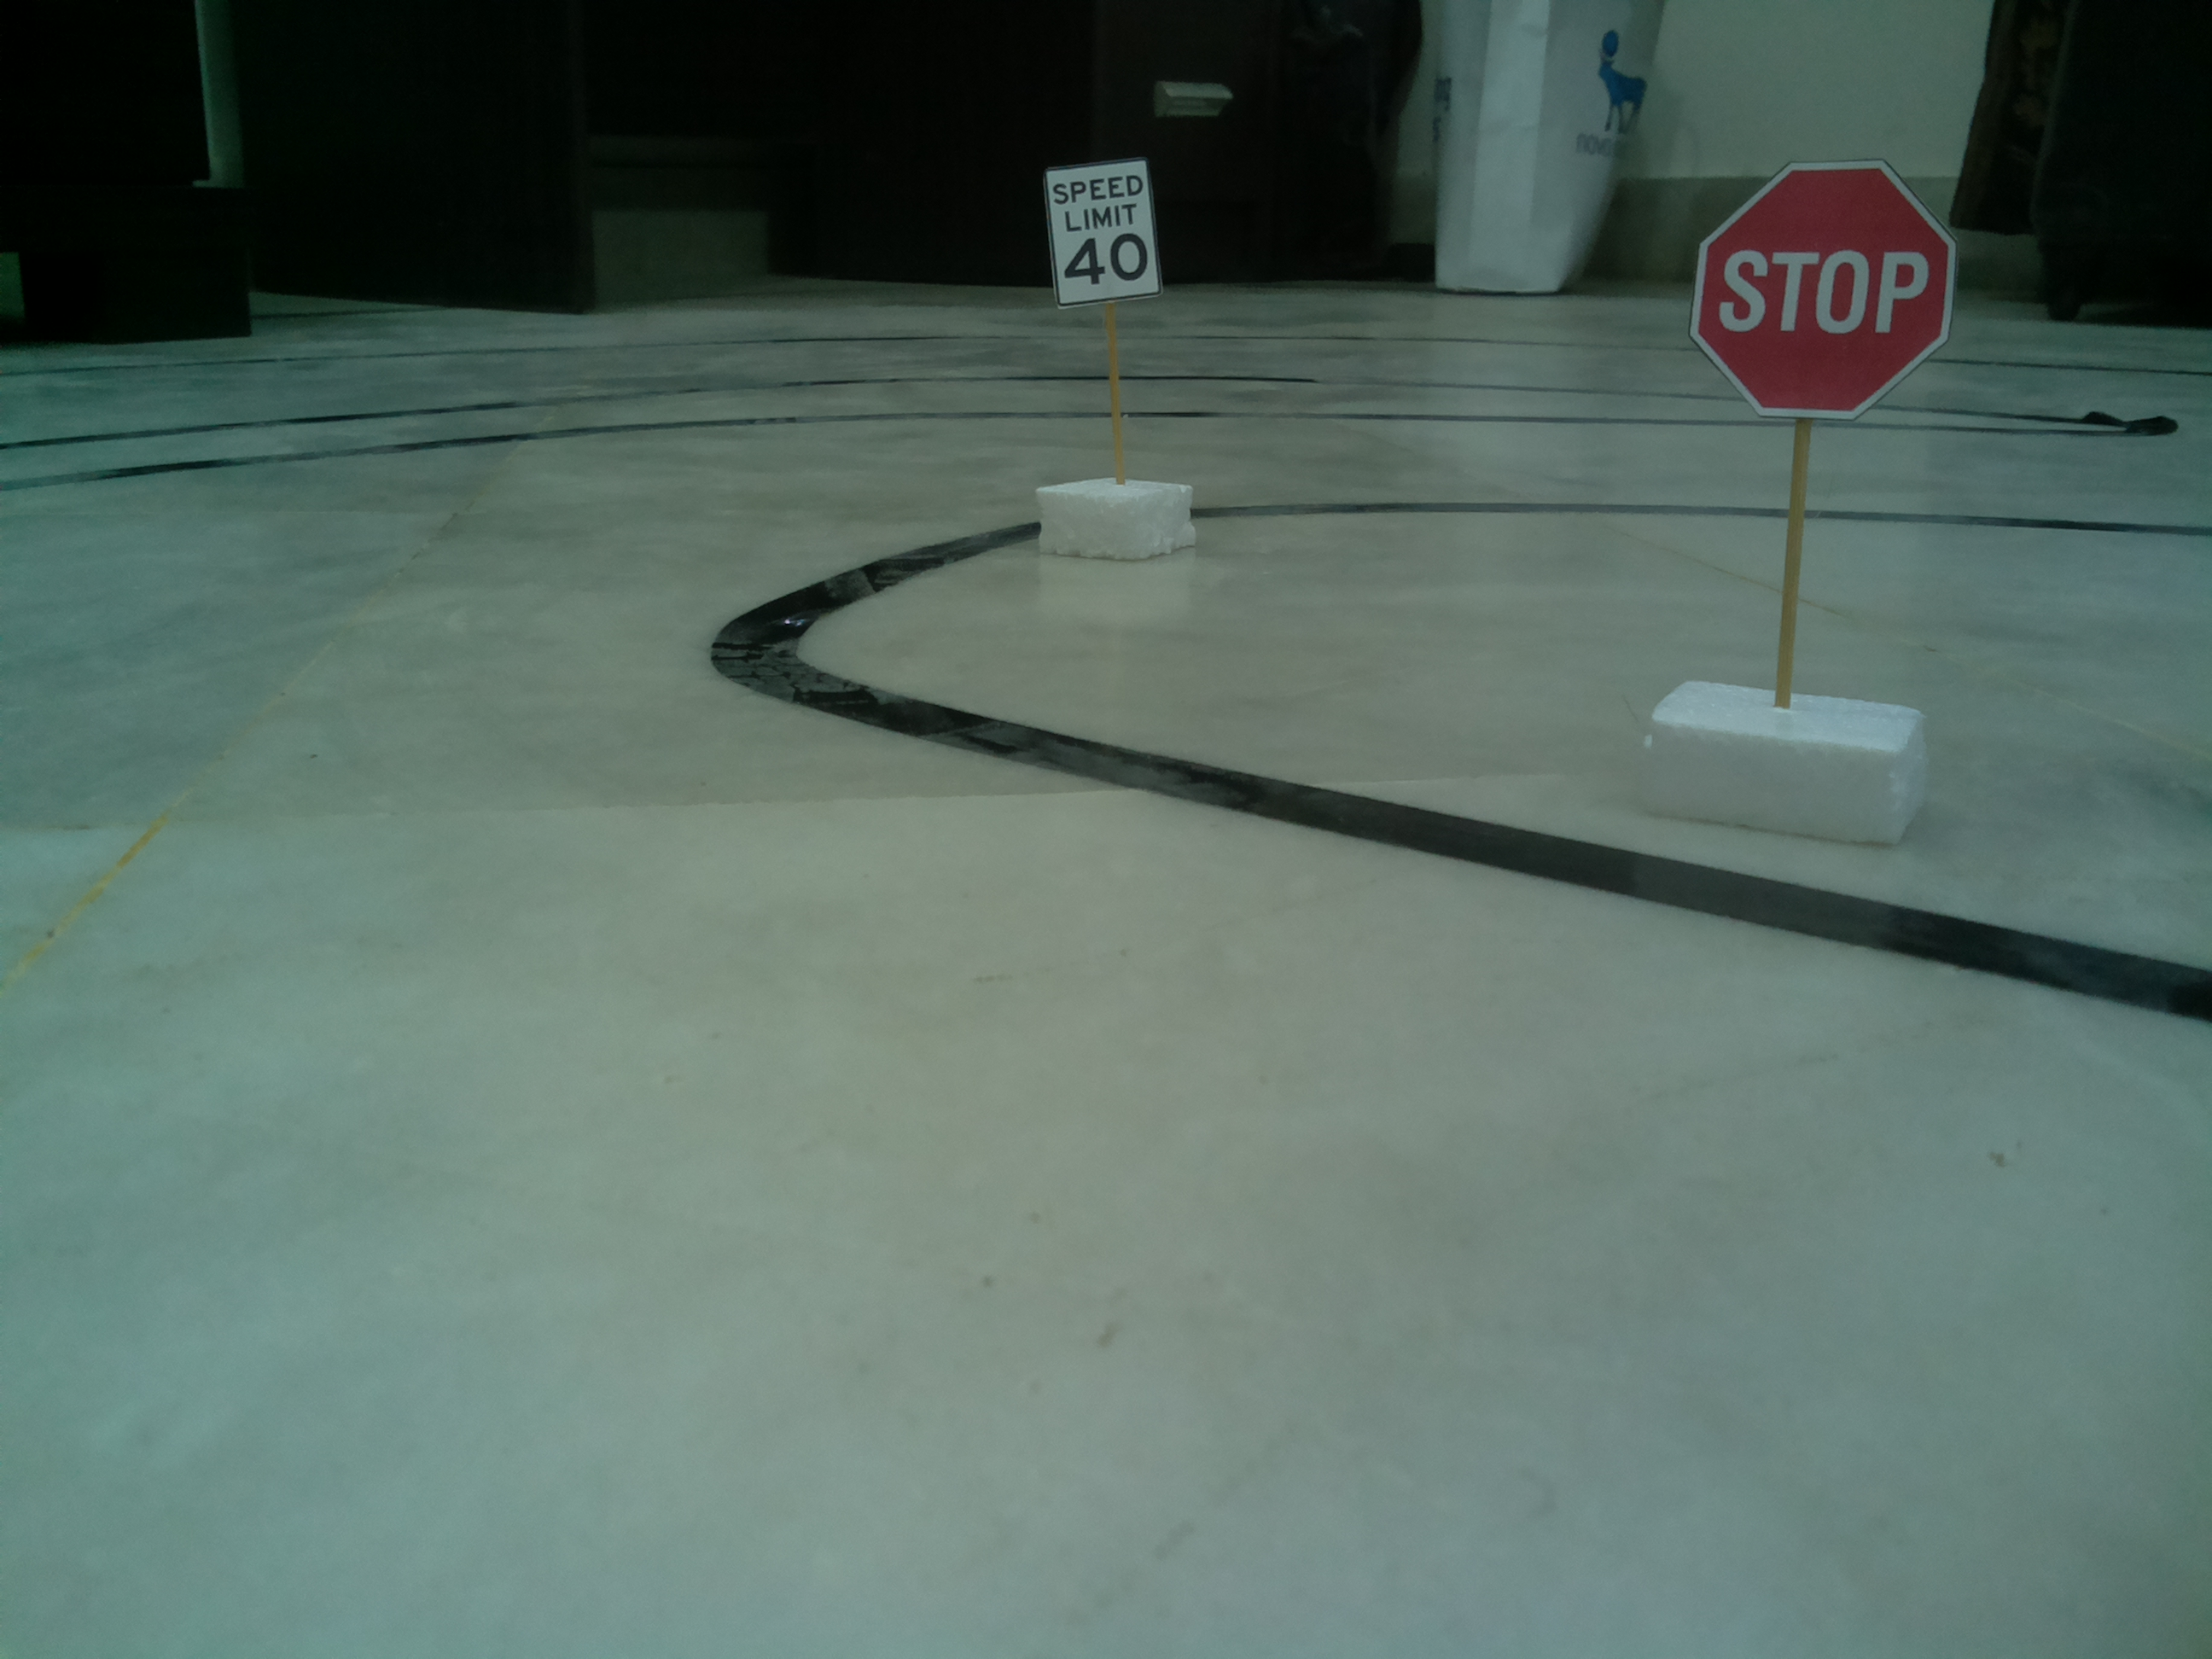Speed limit 40: (1040, 160, 1184, 305)
Stop sign: (1684, 139, 1963, 425)
